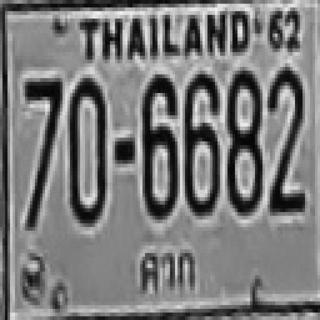N00: (68, 76, 105, 221)
N02: (266, 67, 304, 212)
N06: (182, 71, 218, 212), (140, 71, 175, 216)
N07: (22, 76, 60, 225), (22, 74, 60, 212), (22, 76, 60, 177)
N08: (225, 67, 260, 212)
P69: (134, 242, 199, 295)
